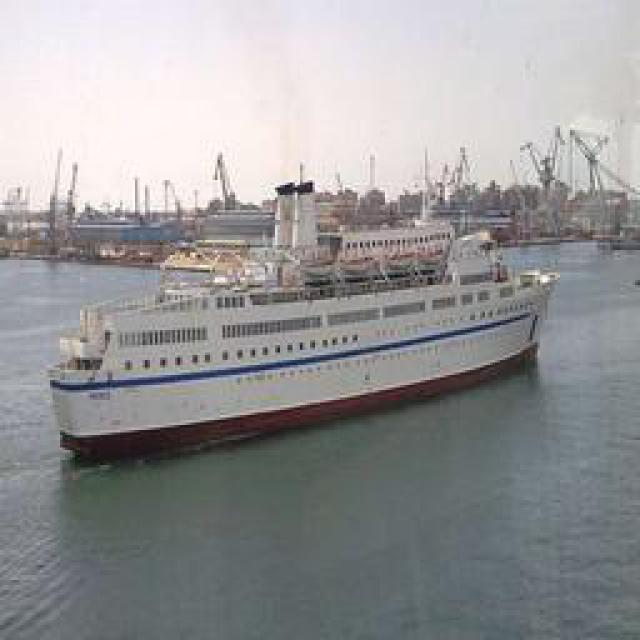Ship: (46, 227, 554, 465)
